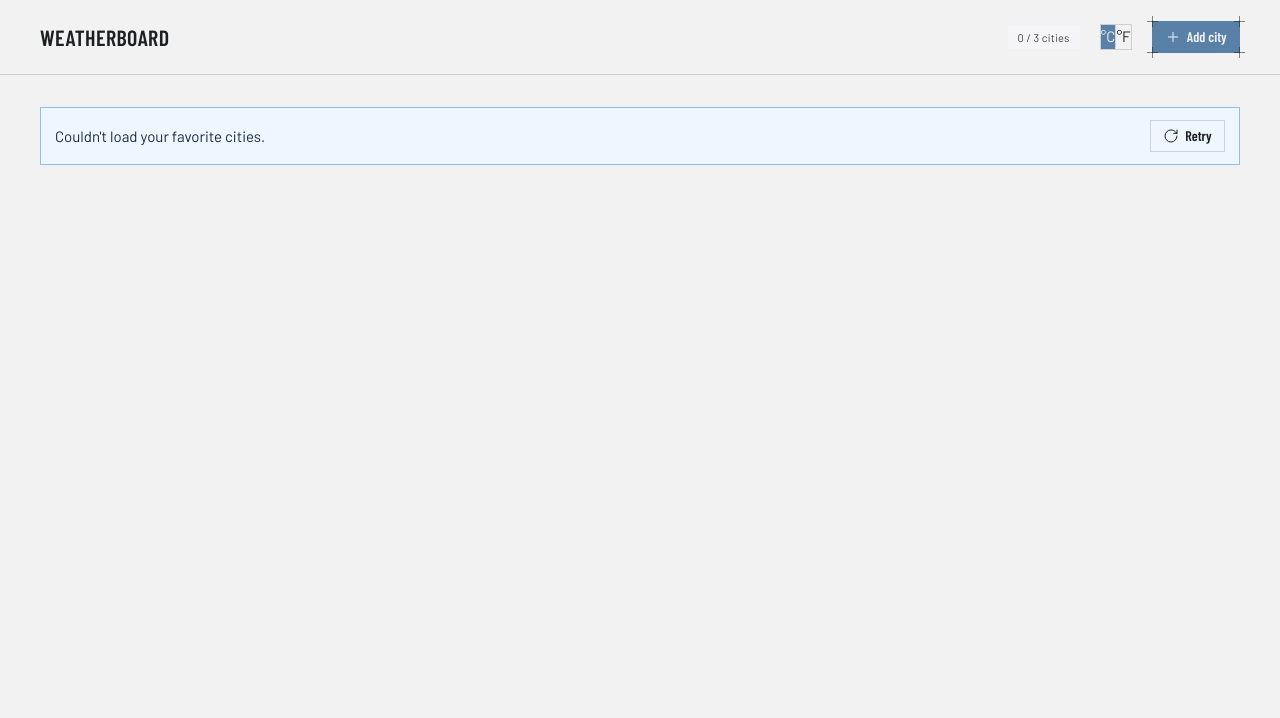
Test: App › offers a retry when favorites fail to load
Expected: the text "Couldn't load your favorite cities." is shown, left=55, top=125, right=265, bottom=148
Click the button "Retry" at (1188, 136), box left=1150, top=120, right=1225, bottom=152
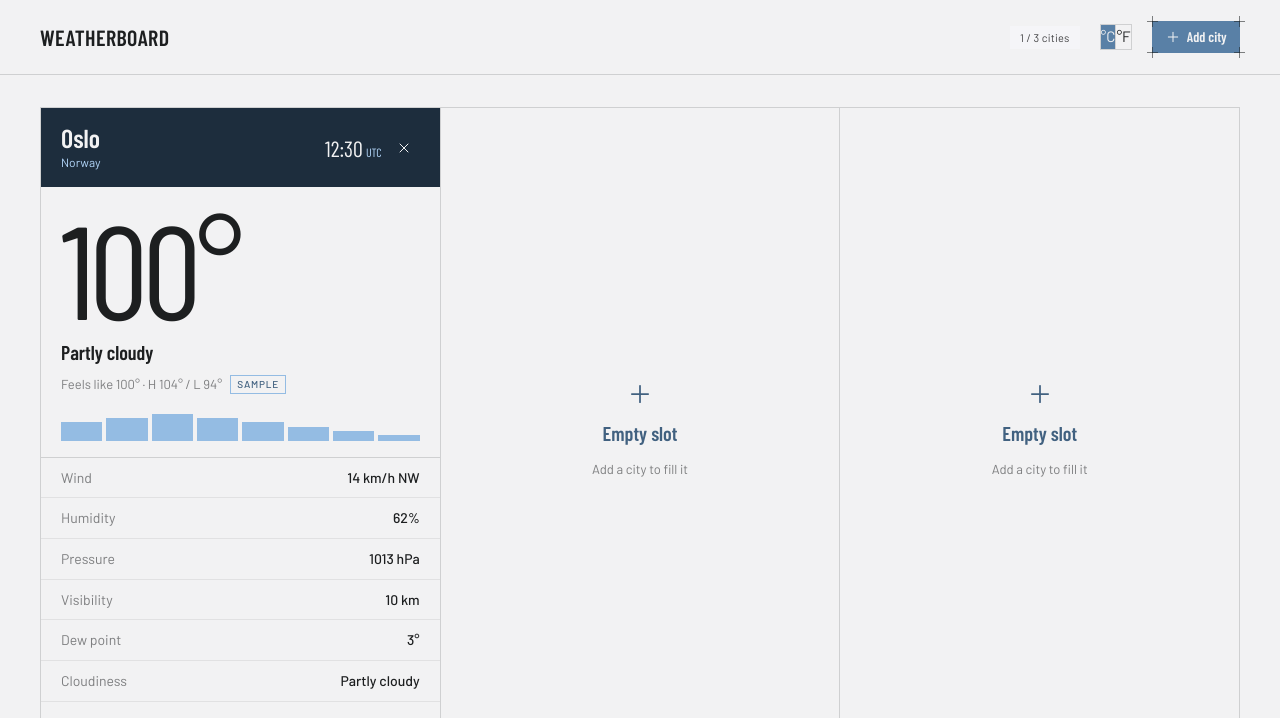
Result: the text "100°" is shown at left=61, top=188, right=238, bottom=346
